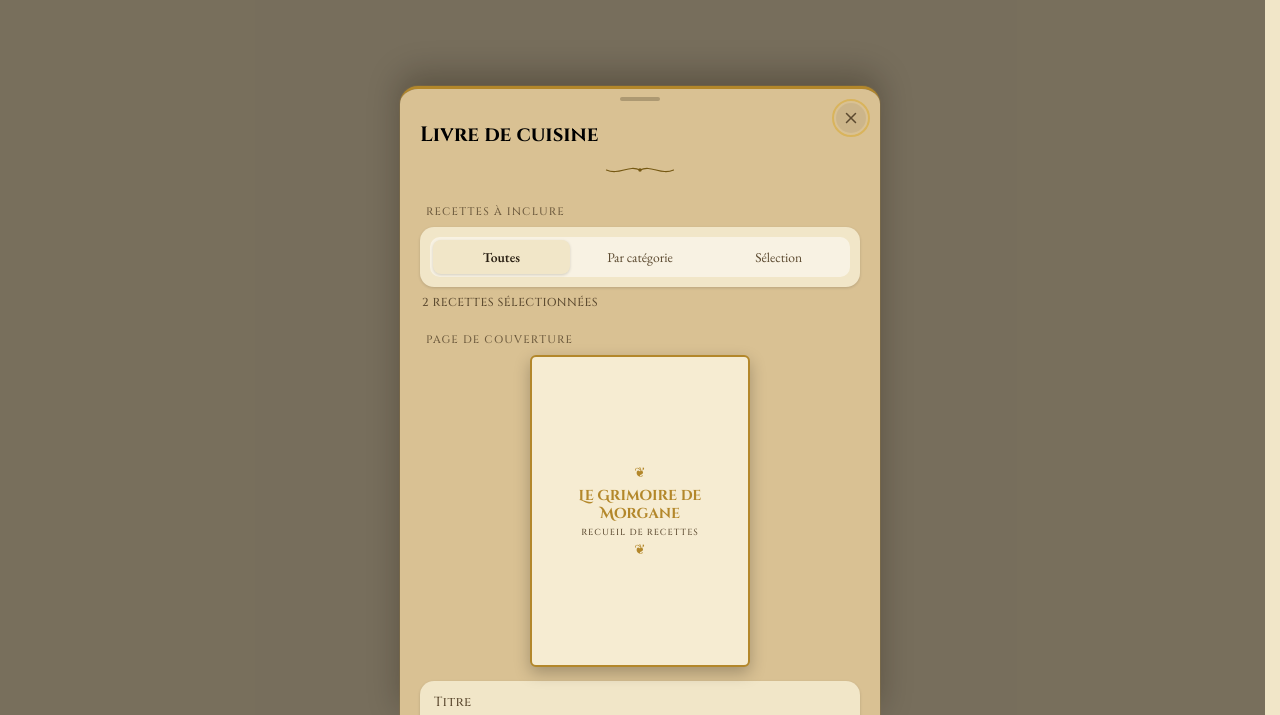
CookbookBuilderModal — sélection des recettes › ne compte que les recettes cochées en mode 'Sélection'
Click the tab "Sélection": (779, 257) [710,240,847,274]
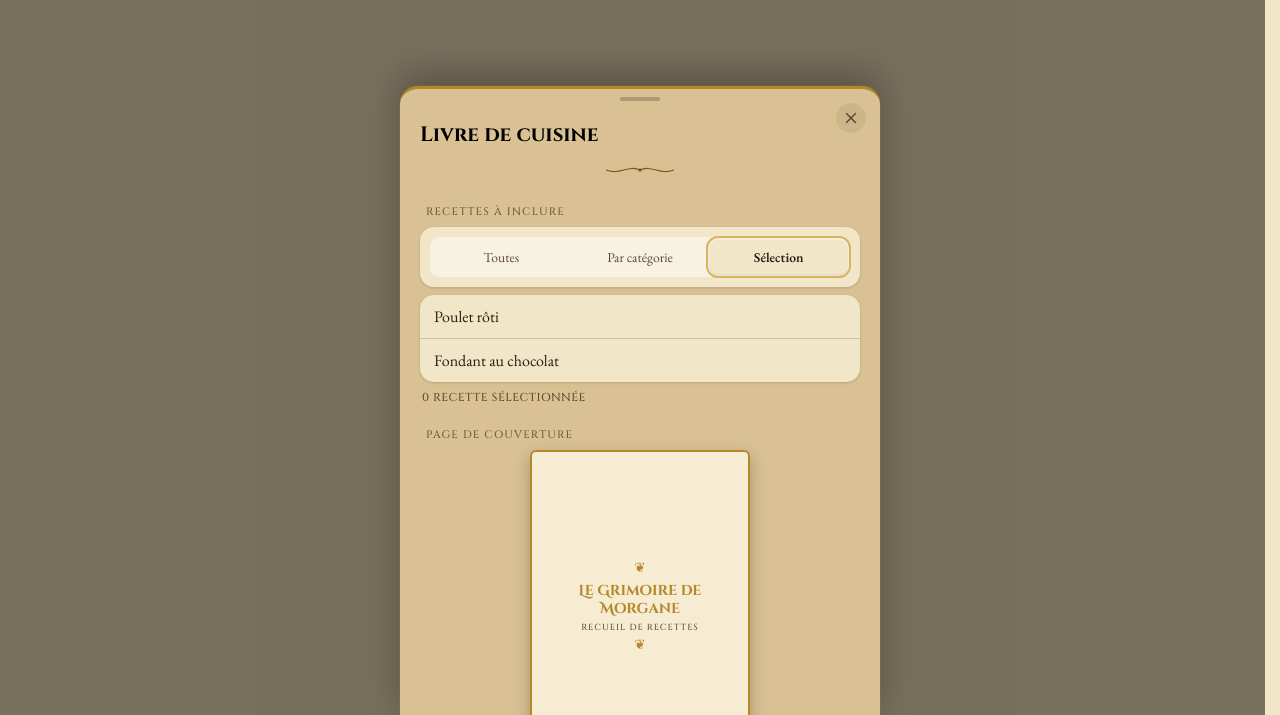
Expected: the text "0 recette sélectionnée" is shown, [422,390,586,405]
Click the button "Poulet rôti": (466, 317) [420,295,860,338]
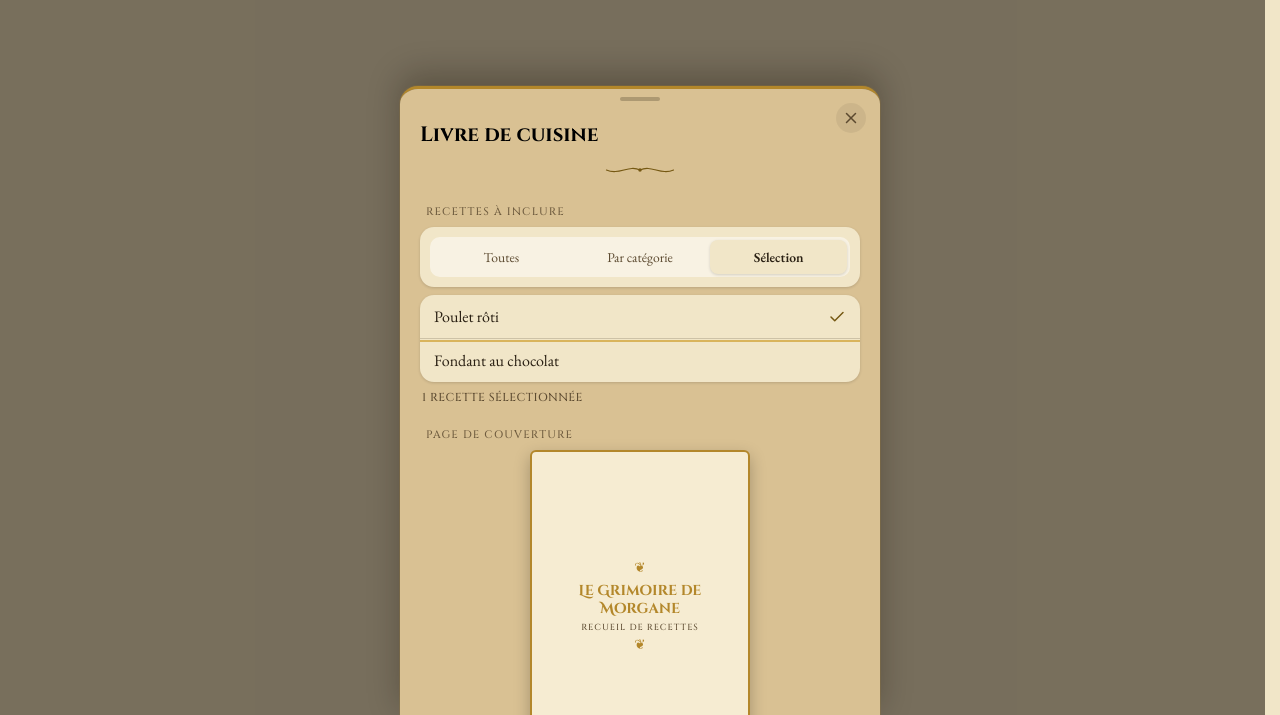
Expected: the text "1 recette sélectionnée" is shown, [422,390,583,405]
